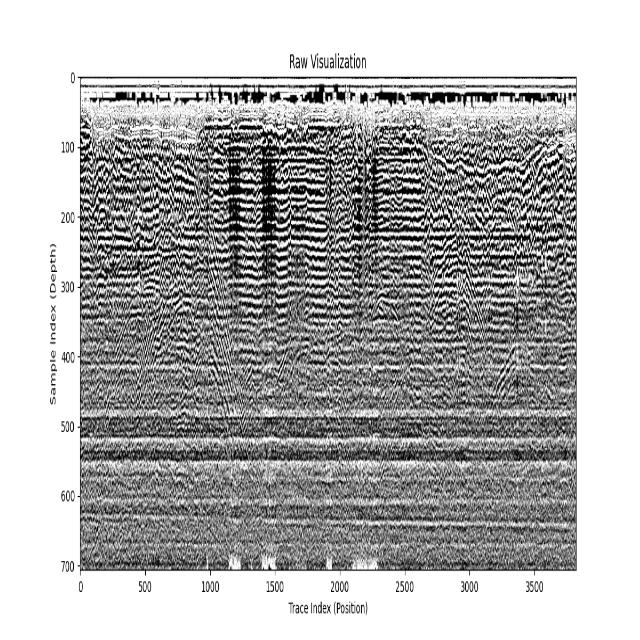anomaly: (126, 278, 245, 433), (419, 238, 497, 338), (486, 341, 561, 421)
